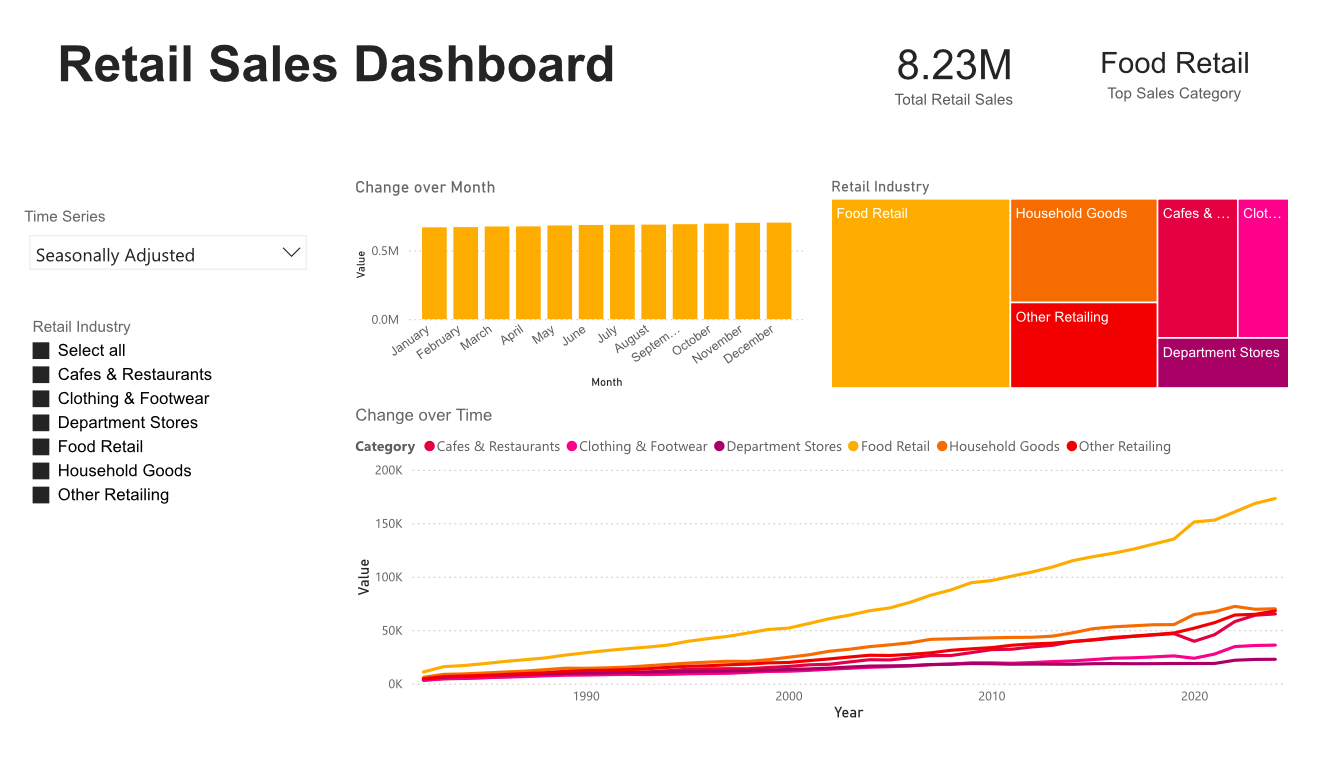

This screenshot's page, from the dashboard's own definition file:
{"tool":"powerbi","page":{"name":"Page 1","canvas":[1280,720],"ordinal":0},"visuals":[{"type":"slicer","title":"Time Series","fields":{"Values":["Data1.Data Type"]},"box":[19.4,204.8,285.3,83.3],"z":0},{"type":"card","fields":{"Values":["Data1.Total Retail Sales"]},"box":[832.5,8.9,161.9,130],"z":1000},{"type":"card","fields":{"Values":["Data1.Top Sales Category"]},"box":[1022.5,8.9,202.7,130],"z":2000},{"type":"lineChart","title":"Change over Time","fields":{"Category":["Data1.Date.Variation.Date Hierarchy.Year","Data1.Date.Variation.Date Hierarchy.Quarter","Data1.Date.Variation.Date Hierarchy.Month","Data1.Date.Variation.Date Hierarchy.Day"],"Series":["Data1.Category"],"Y":["Sum(Data1.Value)"]},"box":[335.5,394.2,902.6,305.8],"z":3000},{"type":"treemap","title":"Retail Industry","fields":{"Group":["Data1.Category"],"Values":["Sum(Data1.Value)"]},"box":[790.4,177.8,447.5,204],"z":4000},{"type":"lineStackedColumnComboChart","title":"Change over Month","fields":{"Category":["Data1.Date.Variation.Date Hierarchy.Month"],"Y":["Sum(Data1.Value)"]},"box":[335.5,178,439.3,204.2],"z":5000},{"type":"slicer","fields":{"Values":["Data1.Category"]},"box":[19.4,305.2,285.3,213.4],"z":6000},{"type":"textbox","box":[51,34.4,589,79],"z":7000}]}

Visuals, with their boxes in screenshot pixels (x1, y1, x2, y2), scaled from the page's 1280x720 canvas onto the 1332x767 screenshot:
"Time Series" slicer: rect(20, 218, 317, 307)
card - Data1.Total Retail Sales: rect(866, 9, 1035, 148)
card - Data1.Top Sales Category: rect(1064, 9, 1275, 148)
"Change over Time" lineChart: rect(349, 420, 1288, 746)
"Retail Industry" treemap: rect(823, 189, 1288, 407)
"Change over Month" lineStackedColumnComboChart: rect(349, 190, 806, 407)
slicer - Data1.Category: rect(20, 325, 317, 552)
textbox: rect(53, 37, 666, 121)
